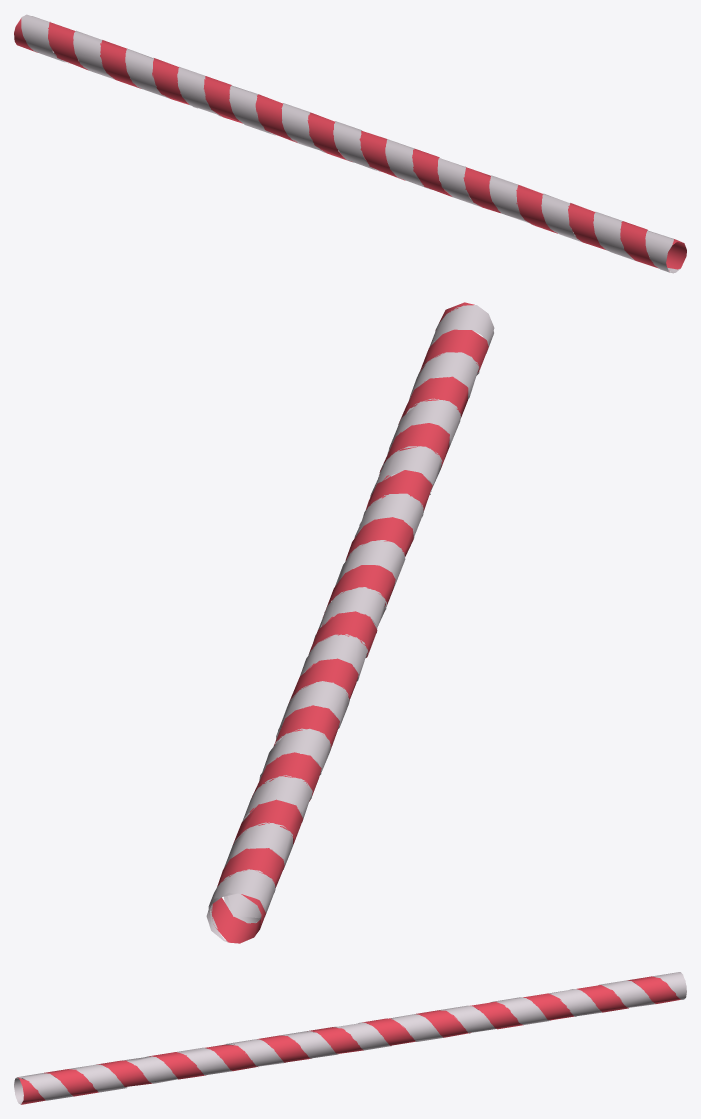
File: straw.glb
3 views of the same model, one above another, from view 1: azimuth 30°, elevation 25°; view 2: azimuth 150°, elevation 25°; view 3: azimuth 270°, elevation 25° (orthographic). The views are drawn at different scales.
Parts seen in each view (by area): view 1: straw001_2; view 2: straw001_2; view 3: straw001_2.
Boxes of the visible parts, left/top/right/bottom form: straw001_2: left=14, top=14, right=686, bottom=273; straw001_2: left=206, top=302, right=494, bottom=943; straw001_2: left=14, top=972, right=686, bottom=1104.
Bounding box in the file's own units: 0.6641 × 0.0685 × 1.63.
